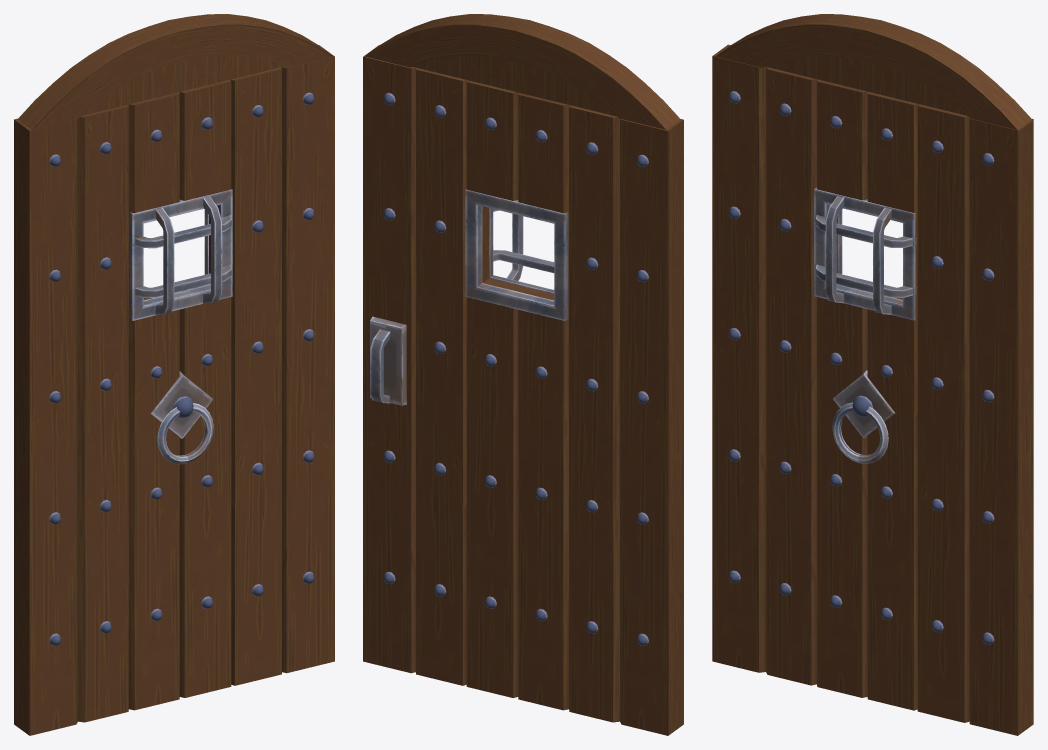
The model's file is Door_2_Round.glb.
3 views of the same model, side by side, from view 1: azimuth 30°, elevation 25°; view 2: azimuth 150°, elevation 25°; view 3: azimuth 330°, elevation 25° (orthographic).
Parts seen in each view (by area): view 1: Door_2_Round; view 2: Door_2_Round; view 3: Door_2_Round.
Part boxes in pixels (x1,y1,x2,y2): Door_2_Round: (14,14,334,735); Door_2_Round: (363,14,683,735); Door_2_Round: (712,14,1033,735).
Size of the model in its own units: 1.12 by 2.33 by 0.2608.
Materials: 2 (2 with a texture image).
